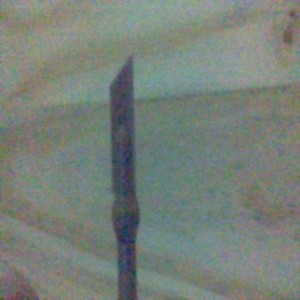cutter: (107, 53, 142, 300)
